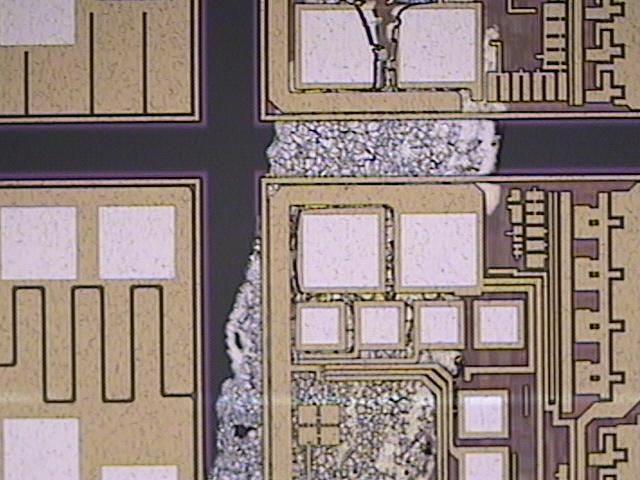BLOCK ETCH: (197, 1, 509, 480)
